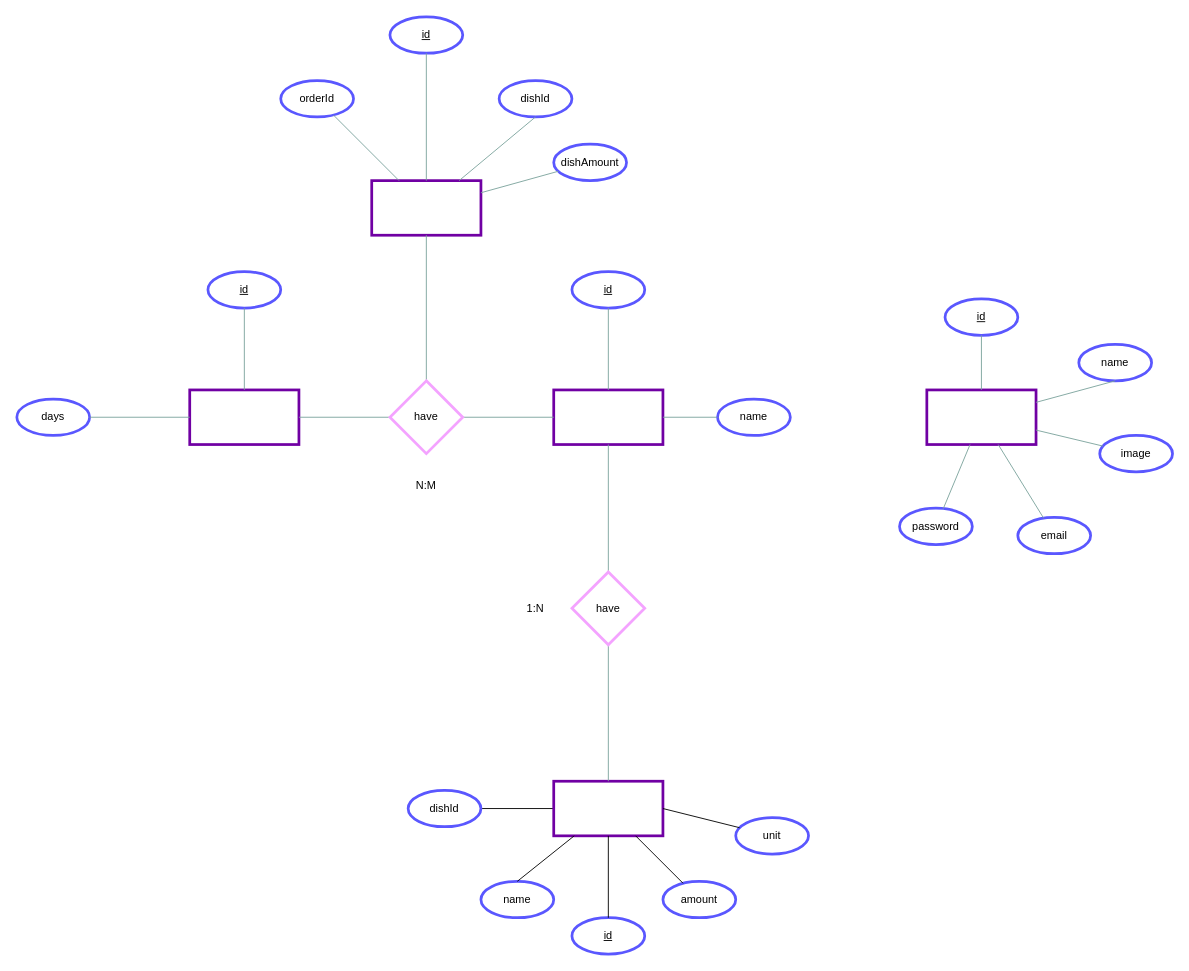
The diagram is 1189 pixels wide and 971 high, and some of its shapes have lost their labels. Each missing label, with the centre of its shape:
"Dish" goes at pixel 608 416.
"DishOrder" goes at pixel 426 207.
"Ingredient" goes at pixel 608 808.
"Order" goes at pixel 244 416.
"User" goes at pixel 981 416.
